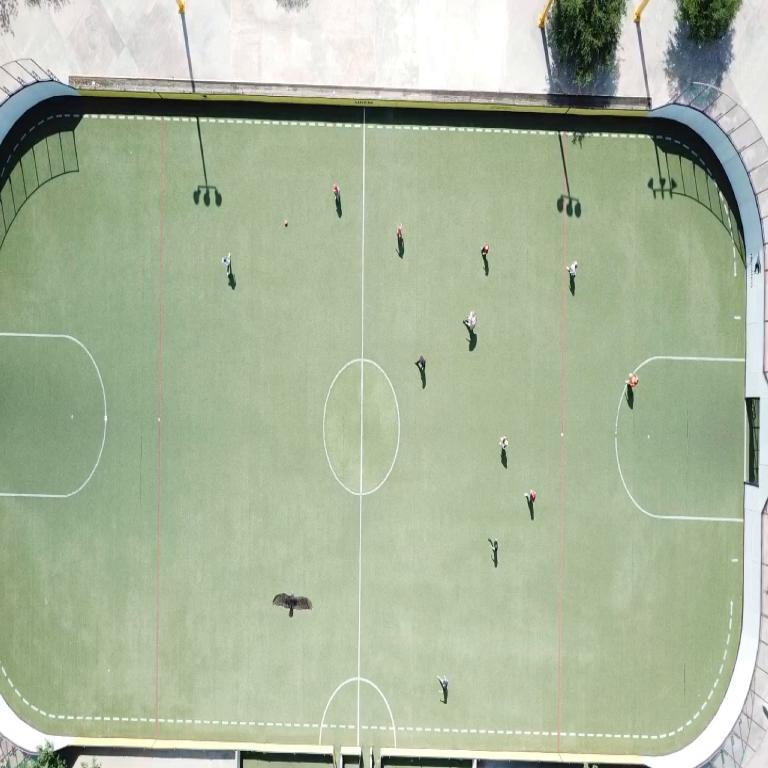AC: (0, 332, 107, 499), (615, 387, 743, 522)
B: (284, 219, 288, 226)
MC: (357, 107, 364, 745)
P: (438, 676, 448, 702), (464, 311, 476, 331), (488, 539, 497, 564), (222, 253, 230, 276), (626, 374, 638, 389), (567, 261, 577, 278), (525, 489, 536, 504), (416, 356, 425, 372), (500, 437, 508, 452), (333, 183, 339, 202), (482, 243, 489, 257), (397, 225, 402, 238)
